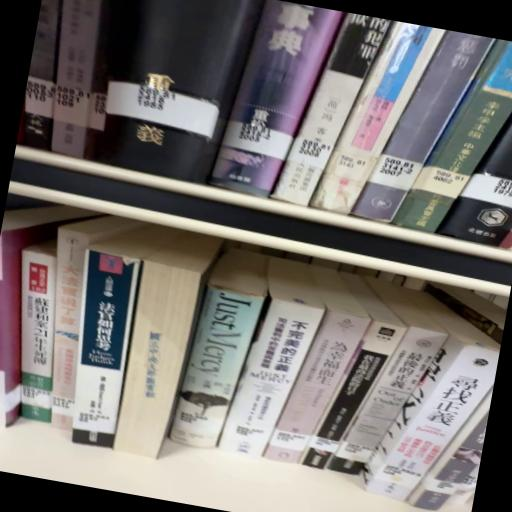backward: (113, 232, 222, 459)
book: (348, 20, 494, 238), (309, 14, 442, 228), (271, 7, 391, 219), (114, 258, 207, 460), (56, 249, 146, 448), (0, 234, 75, 421)
